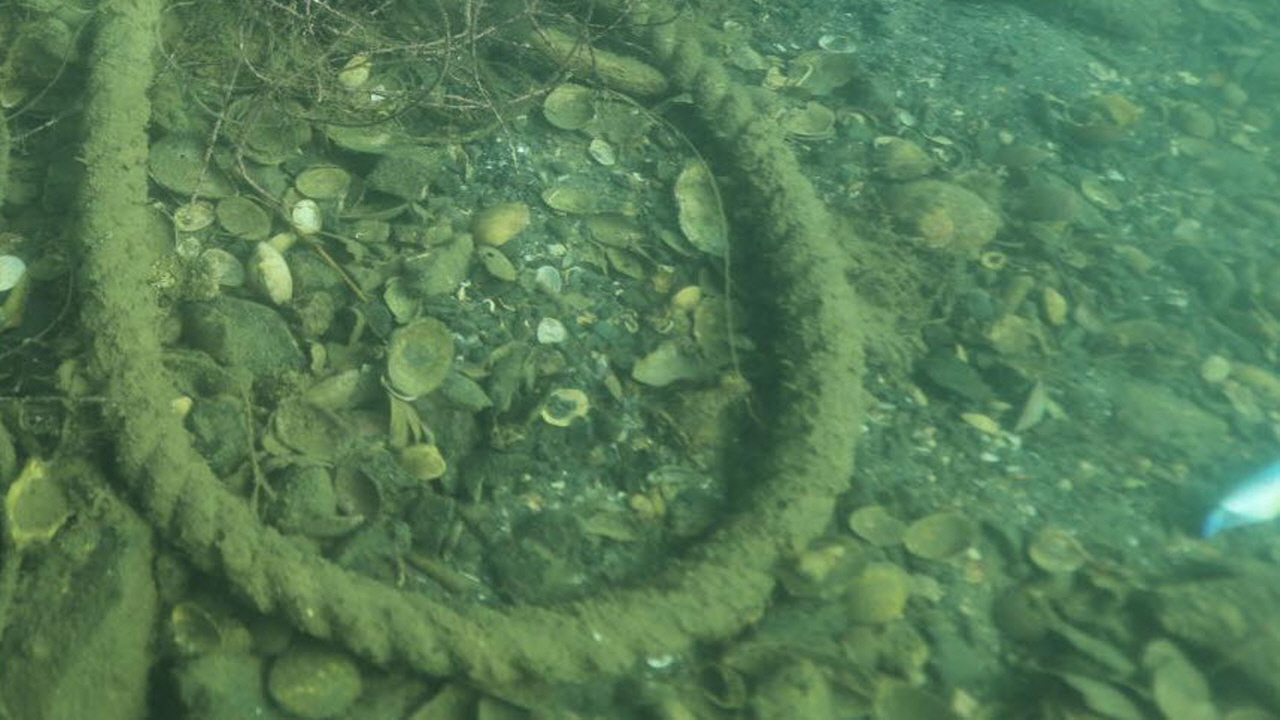rope: (69, 0, 863, 683)
